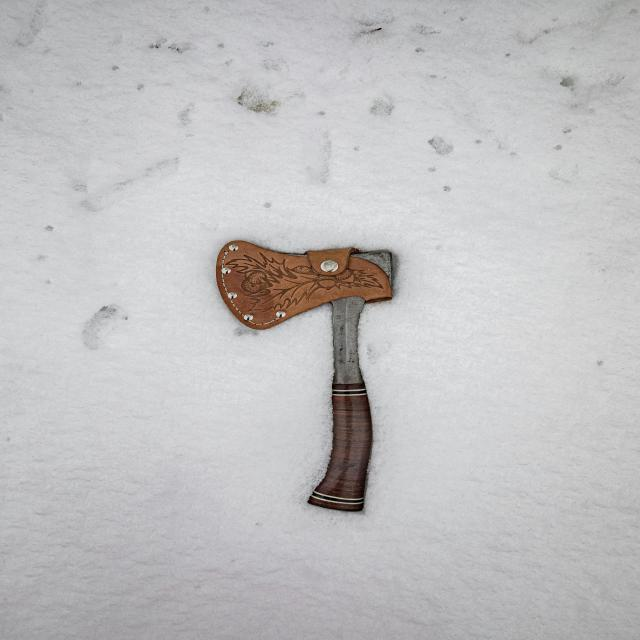Axe: (216, 241, 391, 511)
